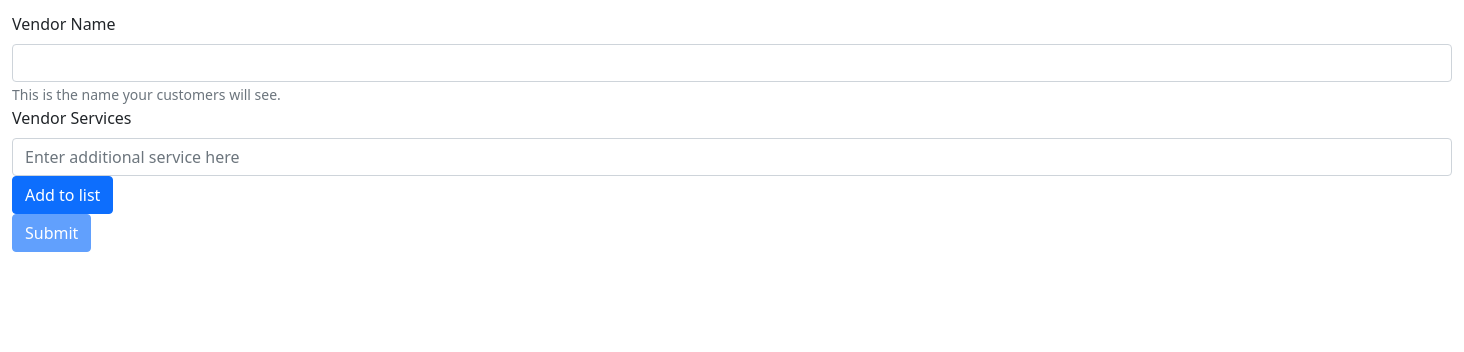
Test: <AddVendorForm/> › should capture all the services the vendor offers
Type "Premium" into the field labelled "Vendor Services" at (732, 157), box left=12, top=138, right=1452, bottom=176
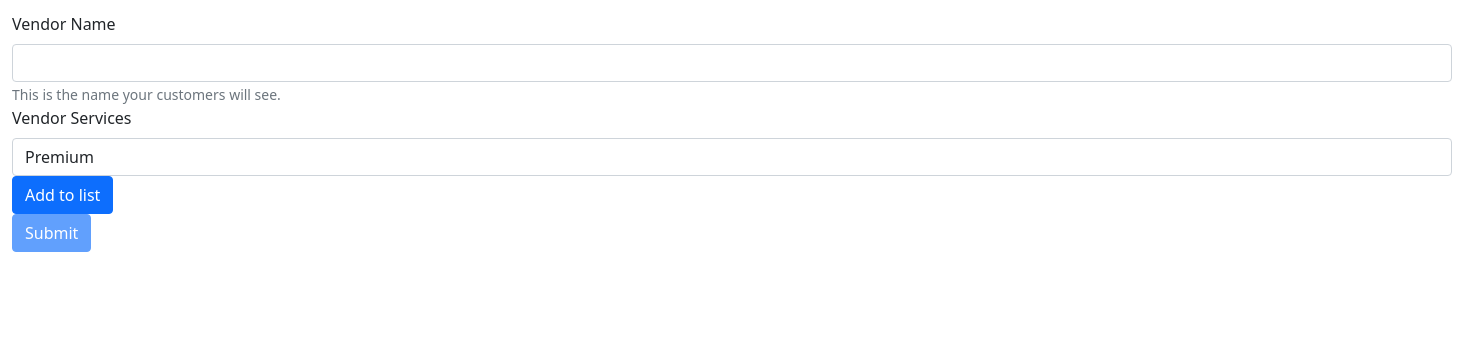
Click the button "Add to list" at (63, 195), box left=12, top=176, right=113, bottom=214
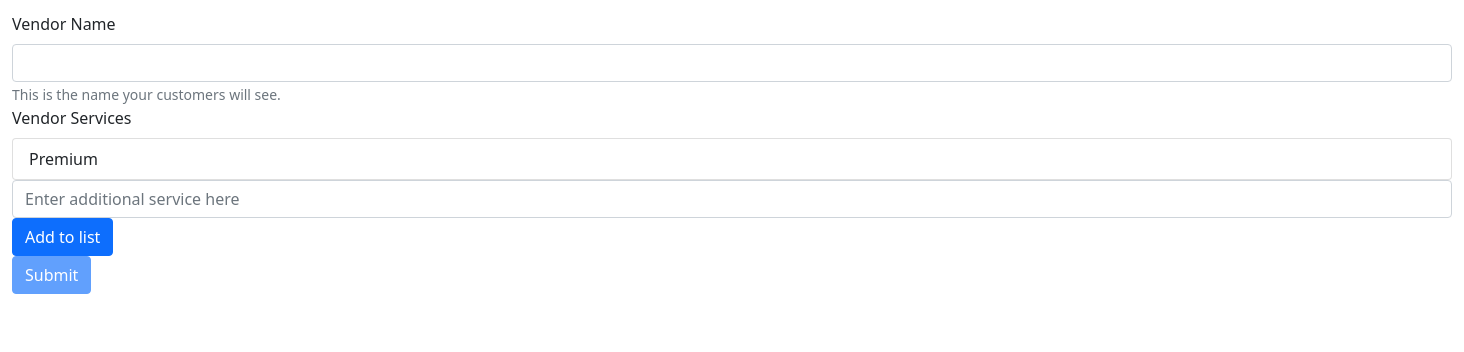
Type "Value" into the field labelled "Vendor Services" at (732, 199), box left=12, top=180, right=1452, bottom=218
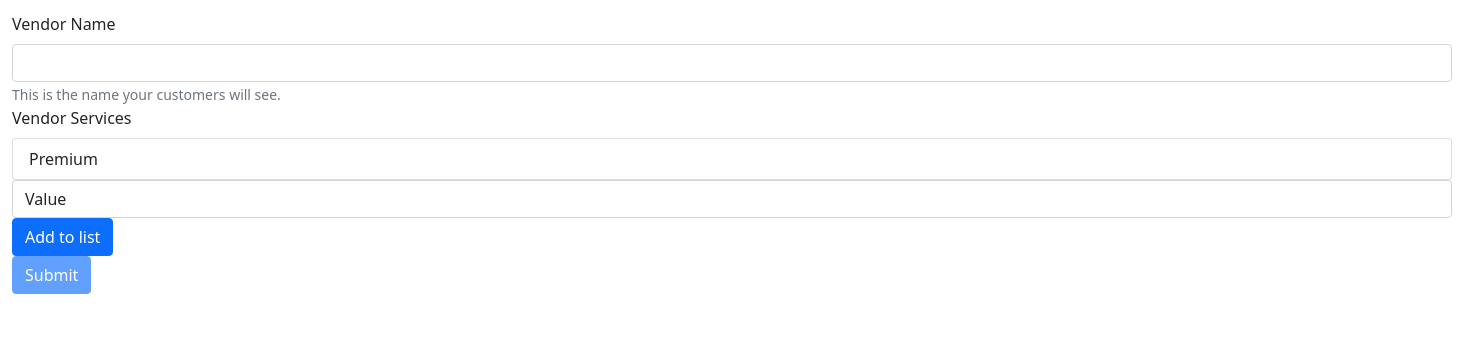
Click the button "Add to list" at (63, 237), box left=12, top=218, right=113, bottom=256
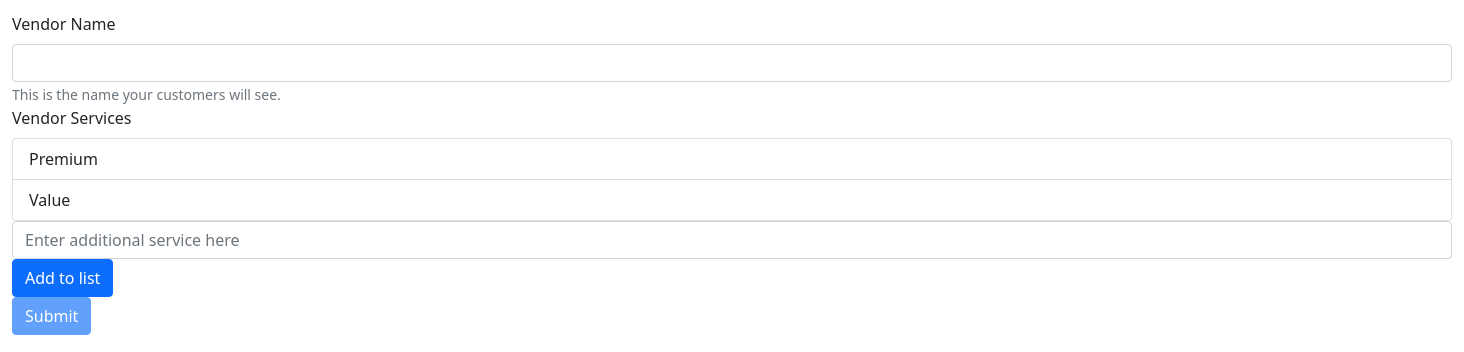
Expected: the text "Premium" is shown, left=12, top=138, right=1452, bottom=180
Expected: the text "Value" is shown, left=12, top=180, right=1452, bottom=221
